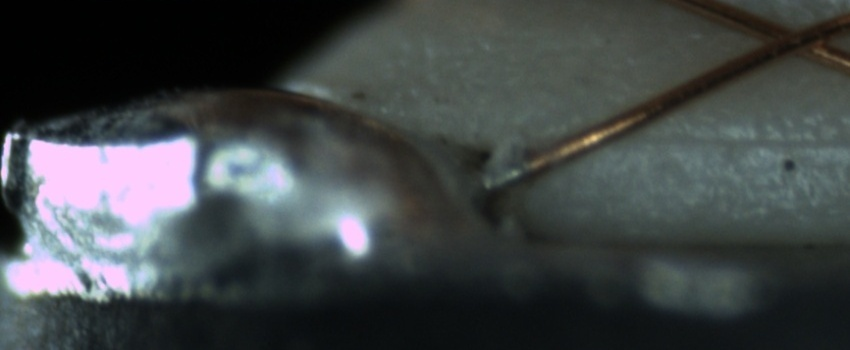CL: (743, 8, 842, 65)
DL: (621, 109, 845, 168)
TS: (477, 158, 530, 193)
